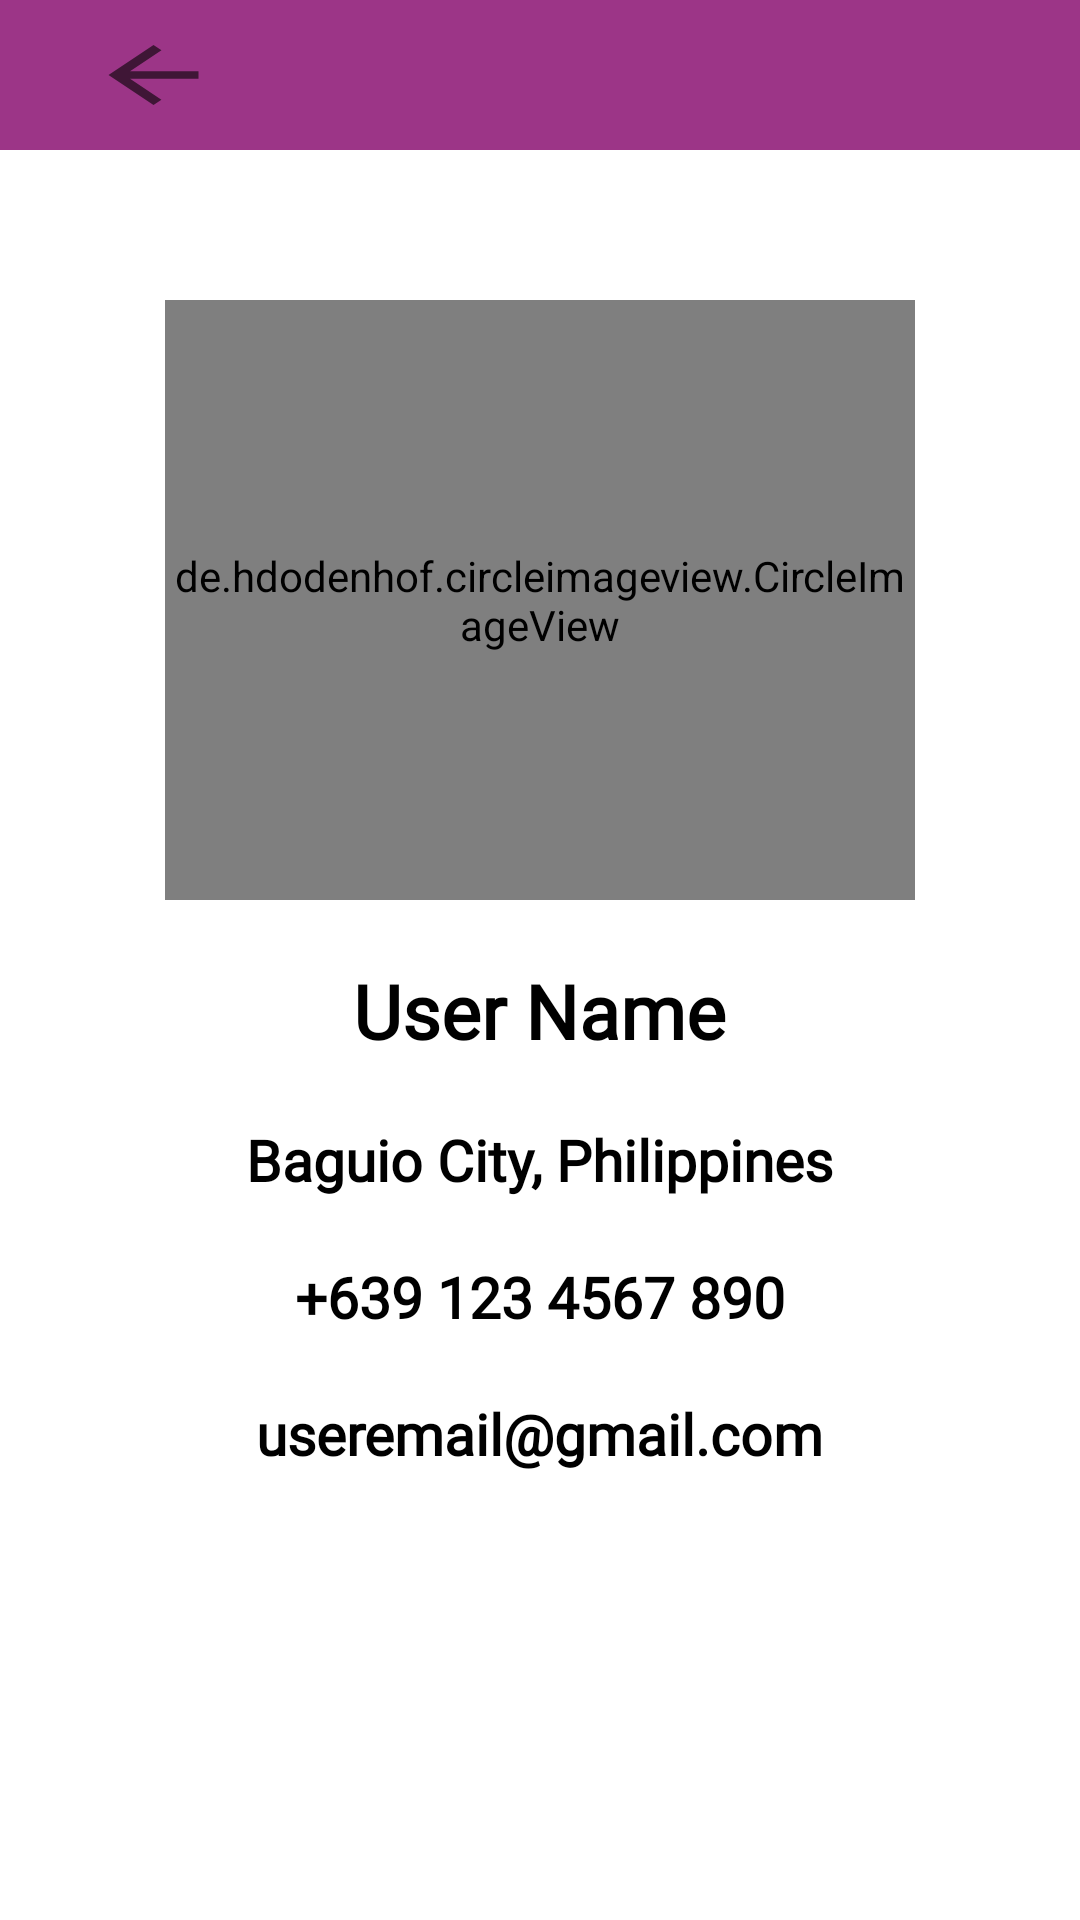

Icon bounding boxes for this 1080×1920 phone screenshot, format BBox(x1, y1, x2, y2):
arrow back: BBox(109, 45, 199, 105)
